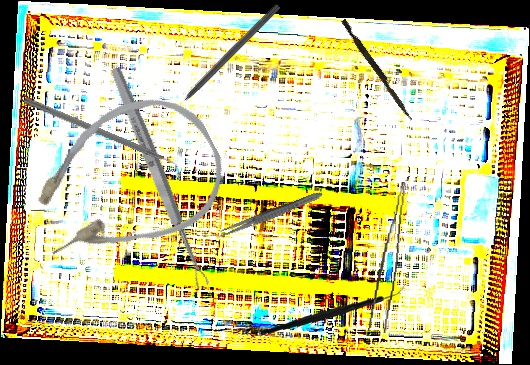Cannula: (6, 75, 243, 288)
Chopper: (19, 96, 186, 180), (261, 274, 406, 345)
Dressing Forceps: (214, 188, 325, 242)
Hook Surgical: (168, 2, 282, 115)
Pusher: (338, 18, 417, 122)
Surgical Spoon: (107, 65, 211, 290)
Tissue Forceps: (368, 180, 406, 334)
